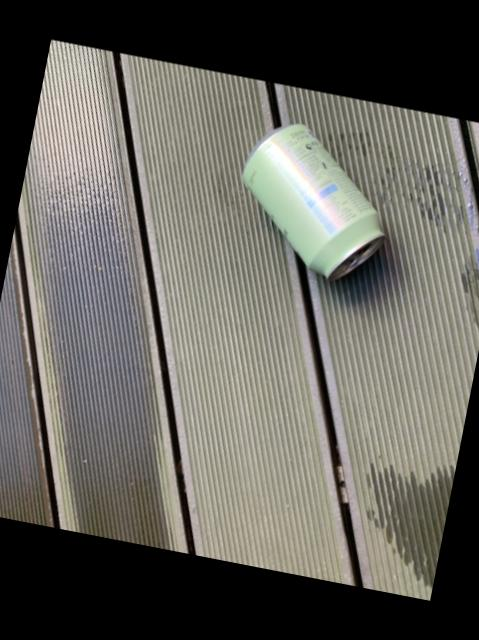metal: (239, 122, 380, 278)
